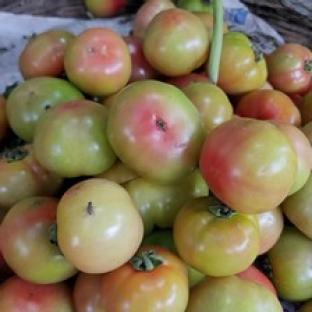Tomato: (108, 80, 204, 182), (200, 117, 298, 213), (56, 179, 143, 272), (173, 195, 260, 275), (0, 197, 76, 284), (34, 99, 115, 178), (101, 246, 189, 311), (124, 170, 208, 235), (6, 77, 83, 142), (0, 144, 64, 218), (144, 7, 210, 76), (65, 27, 130, 96), (267, 225, 311, 302), (186, 276, 282, 311), (218, 31, 267, 94), (19, 30, 75, 79), (0, 276, 75, 311), (275, 123, 311, 194), (183, 83, 233, 132), (234, 90, 300, 126), (267, 44, 311, 93), (282, 175, 311, 239), (124, 34, 158, 83), (257, 207, 284, 254), (237, 264, 277, 295), (73, 272, 104, 311), (94, 159, 137, 183), (143, 229, 178, 254), (163, 72, 208, 89), (194, 12, 214, 37), (0, 95, 9, 142), (300, 91, 311, 125), (299, 299, 311, 311)
